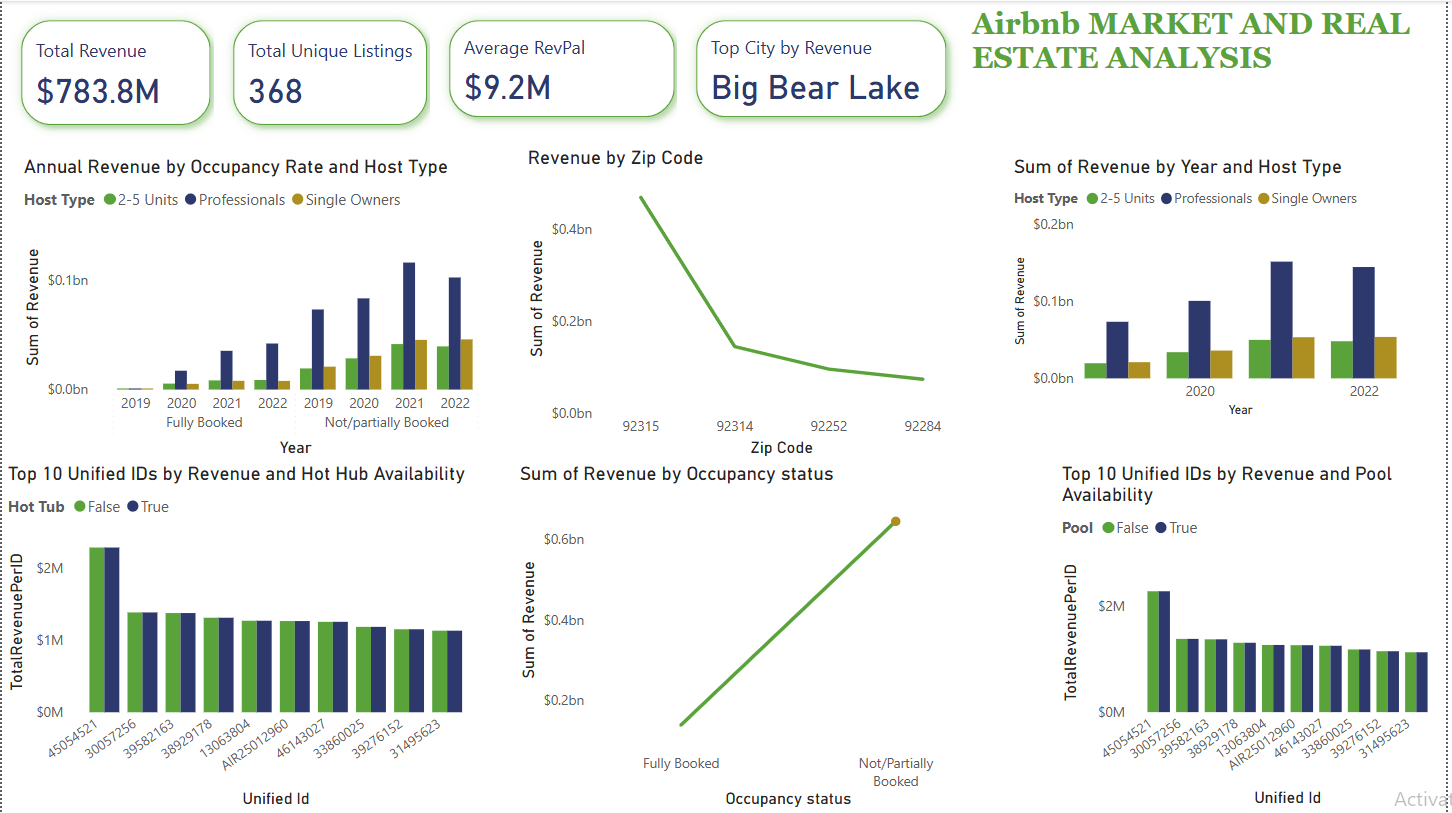

The dashboard page shown, as its layout file describes it:
{"tool":"powerbi","page":{"name":"Dashboard 2","canvas":[1280,720],"ordinal":1},"visuals":[{"type":"lineChart","title":"Revenue by Zip Code","fields":{"Category":["market_analysis_clean.Zip Code2"],"Y":["Sum(market_analysis_clean.Revenue)"]},"box":[461,128.4,393.9,280.1],"z":0},{"type":"clusteredColumnChart","title":"Annual Revenue by Occupancy Rate and Host Type","fields":{"Category":["market_analysis_clean.Occupancy Status","market_analysis_clean.Date.Variation.Date Hierarchy.Year"],"Y":["Sum(market_analysis_clean.Revenue)"],"Series":["market_analysis_clean.Host Type"]},"box":[14.6,136.2,425,272.3],"z":1000},{"type":"textbox","box":[854.8,0,425.6,120.6],"z":2000},{"type":"cardVisual","fields":{"Data":["Amenities calculations (2).Total Revenue"]},"box":[0,0,202.2,127.7],"z":3000},{"type":"cardVisual","fields":{"Data":["Amenities calculations (2).Total Listings"]},"box":[188,0,206.6,127.7],"z":4000},{"type":"cardVisual","fields":{"Data":["Amenities calculations (2).Average RevPal"]},"box":[379.5,0,234.1,120.6],"z":5000},{"type":"clusteredColumnChart","title":"Top 10 Unified IDs by Revenue and Hot Hub Availability","fields":{"Category":["market_analysis_clean.Unified Id"],"Y":["Amenities calculations (2).TotalRevenuePerID"],"Series":["amenities.Hot Tub"]},"box":[0,408.5,427,311.2],"z":6000},{"type":"clusteredColumnChart","title":"Top 10 Unified IDs by Revenue and Pool Availability","fields":{"Category":["market_analysis_clean.Unified Id"],"Y":["Amenities calculations (2).TotalRevenuePerID"],"Series":["amenities.Pool"]},"box":[934.7,408.5,345.3,311.2],"z":7000},{"type":"clusteredColumnChart","fields":{"Category":["market_analysis_clean.Date.Variation.Date Hierarchy.Year"],"Y":["Sum(market_analysis_clean.Revenue)"],"Series":["market_analysis_clean.Host Type"]},"box":[891.9,136.2,350.2,237.3],"z":8000},{"type":"lineChart","fields":{"Category":["Calculations.Occupancy status","market_analysis_clean.Zip Code"],"Y":["Sum(Calculations.Revenue)"]},"box":[454.2,408.5,427,311.2],"z":9000},{"type":"cardVisual","fields":{"Data":["market_analysis_clean.Top City"]},"box":[598.5,0,256.3,120.6],"z":10000}]}

Visuals, with their boxes in screenshot pixels (x1, y1, x2, y2), scaled from the page's 1280x720 canvas onto the 1452x813 screenshot:
"Revenue by Zip Code" lineChart: [left=523, top=145, right=970, bottom=461]
"Annual Revenue by Occupancy Rate and Host Type" clusteredColumnChart: [left=17, top=154, right=499, bottom=461]
textbox: [left=970, top=0, right=1451, bottom=136]
cardVisual - Amenities calculations (2).Total Revenue: [left=0, top=0, right=229, bottom=144]
cardVisual - Amenities calculations (2).Total Listings: [left=213, top=0, right=448, bottom=144]
cardVisual - Amenities calculations (2).Average RevPal: [left=430, top=0, right=696, bottom=136]
"Top 10 Unified IDs by Revenue and Hot Hub Availability" clusteredColumnChart: [left=0, top=461, right=484, bottom=812]
"Top 10 Unified IDs by Revenue and Pool Availability" clusteredColumnChart: [left=1060, top=461, right=1451, bottom=812]
clusteredColumnChart - market_analysis_clean.Date.Variation.Date Hierarchy.Year x Sum(market_analysis_clean.Revenue): [left=1012, top=154, right=1409, bottom=422]
lineChart - Calculations.Occupancy status x market_analysis_clean.Zip Code: [left=515, top=461, right=1000, bottom=812]
cardVisual - market_analysis_clean.Top City: [left=679, top=0, right=970, bottom=136]
